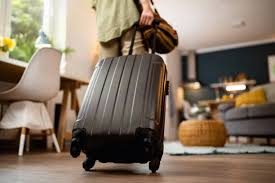suitcase: (68, 16, 171, 175)
